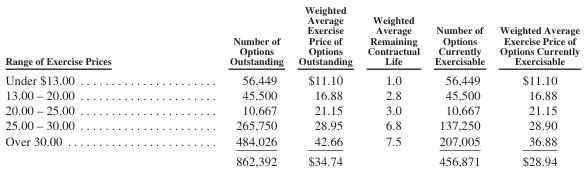table: (4, 3, 578, 167)
table column: (4, 3, 169, 167), (169, 3, 290, 167), (491, 3, 578, 167), (290, 3, 359, 167), (359, 3, 426, 167), (426, 3, 491, 167)
table column header: (4, 3, 578, 69)
table row: (4, 3, 578, 69), (4, 69, 578, 87), (4, 132, 578, 150), (4, 150, 578, 167), (4, 87, 578, 102), (4, 102, 578, 117), (4, 117, 578, 132)
